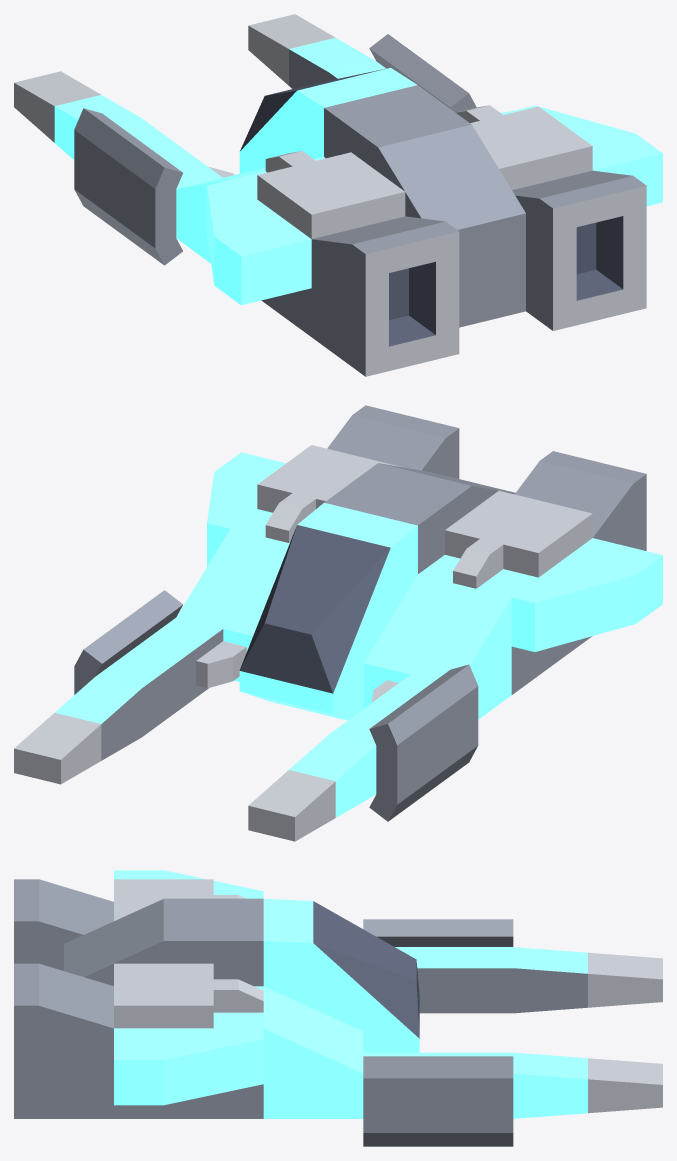
File: craft_miner.glb
3 views of the same model, one above another, from view 1: azimuth 30°, elevation 25°; view 2: azimuth 150°, elevation 25°; view 3: azimuth 270°, elevation 25° (orthographic). The views are drawn at different scales.
Parts seen in each view (by area): view 1: craft_miner; view 2: craft_miner; view 3: craft_miner.
Boxes of the visible parts, x1,y1,x2,y2 form: craft_miner: (14,14,662,376); craft_miner: (14,405,662,841); craft_miner: (14,870,662,1146).
Size of the model in its own units: 1.8 by 0.7 by 2.6.
